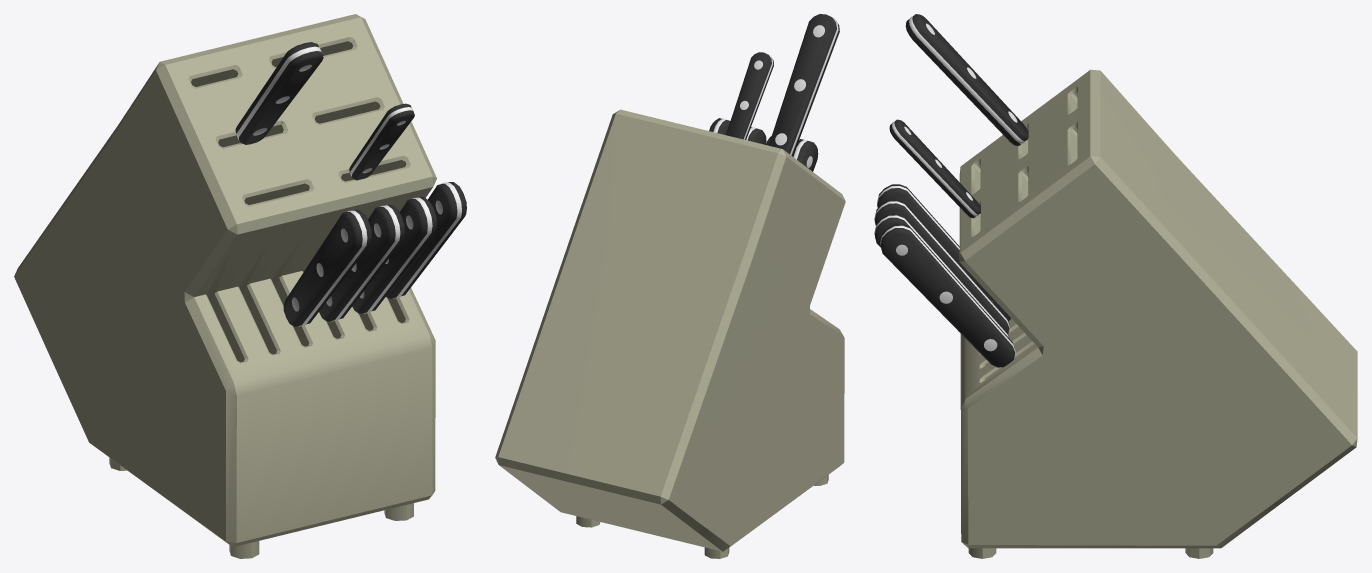
Rendered from KnifeSet002.FBX.
The picture shows the model from 3 angles, left to right: view 1: azimuth 30°, elevation 25°; view 2: azimuth 150°, elevation 25°; view 3: azimuth 270°, elevation 25°; orthographic projection. The views are drawn at different scales.
Parts seen in each view (by area): view 1: KnifeSet002; view 2: KnifeSet002; view 3: KnifeSet002.
Part boxes in pixels (<box>): KnifeSet002: <box>14,14,466,558</box>; KnifeSet002: <box>495,14,845,558</box>; KnifeSet002: <box>874,14,1357,558</box>.
Bounding box in the file's own units: 8.63 × 19.04 × 20.85.
